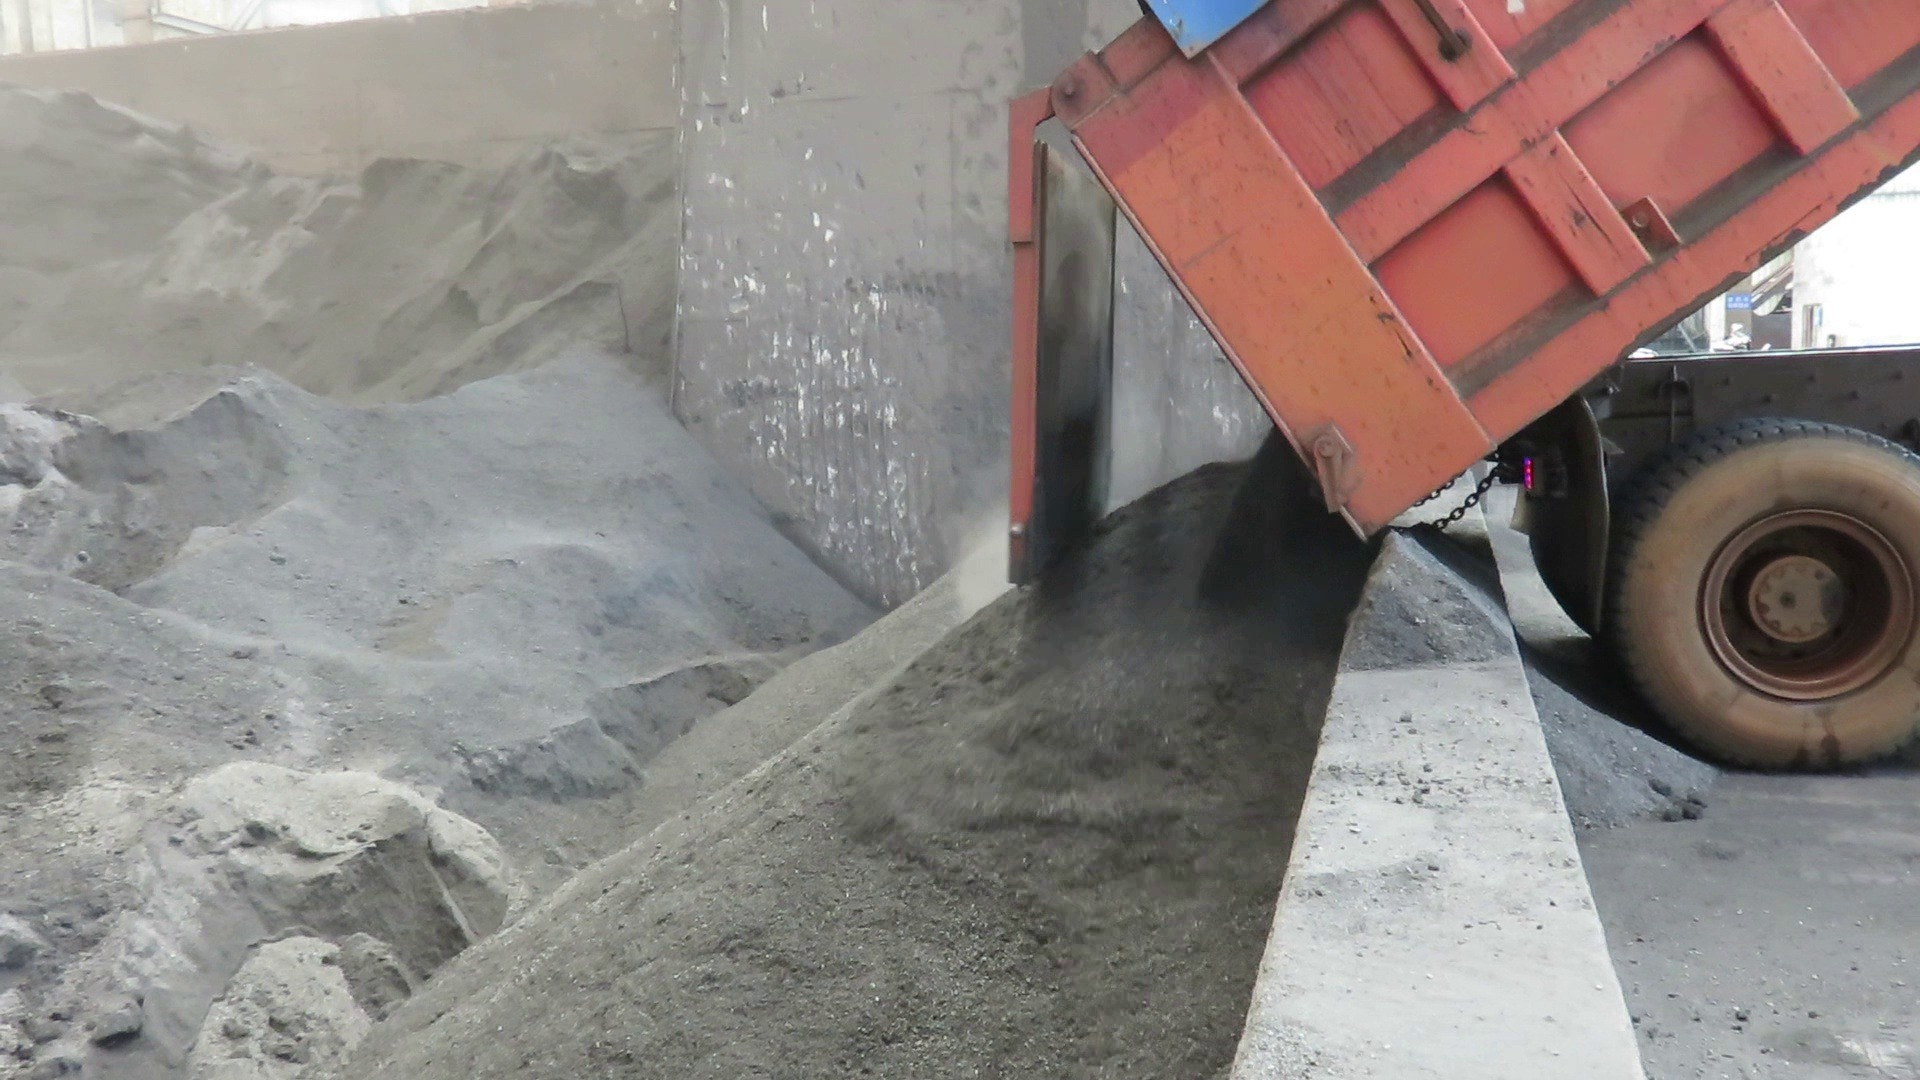dust: (7, 37, 998, 669)
truck: (1002, 0, 1920, 796)
